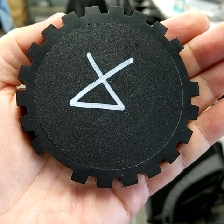gear: (14, 5, 200, 189)
missing: (29, 136, 90, 185), (168, 35, 200, 98)
